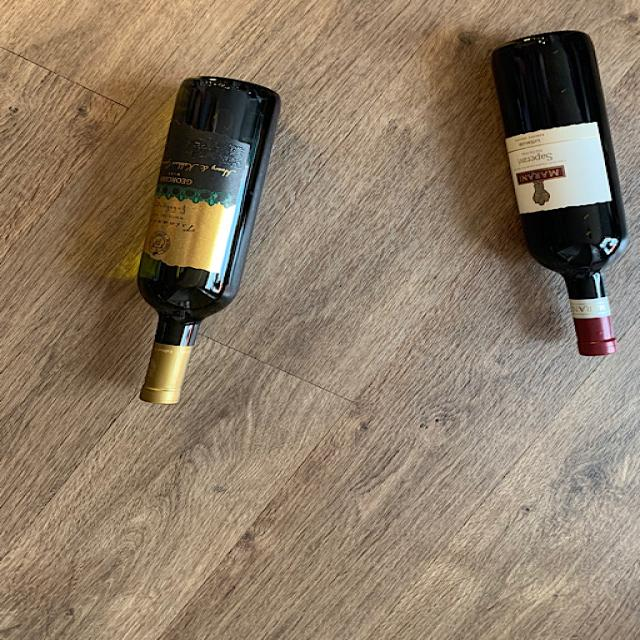litter: (126, 75, 285, 411), (482, 26, 630, 357)
